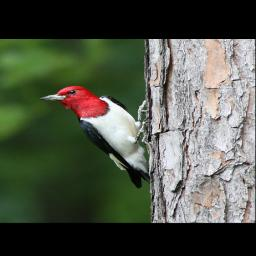Woodpecker: (36, 85, 156, 188)
